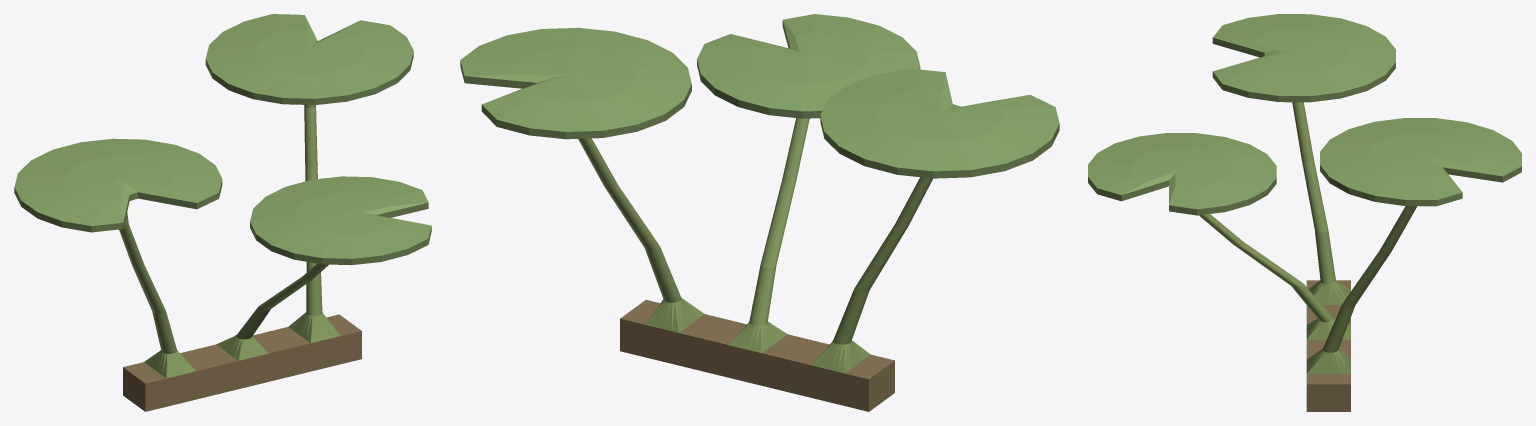
3 renders of one model, left to right at view 1: azimuth 30°, elevation 25°; view 2: azimuth 150°, elevation 25°; view 3: azimuth 270°, elevation 25°, orthographic. The views are drawn at different scales.
Visible parts, largest first — view 1: ContinuousThreePadWaterlily; view 2: ContinuousThreePadWaterlily; view 3: ContinuousThreePadWaterlily.
Part boxes in pixels (x1,y1,x2,y2): ContinuousThreePadWaterlily: [14, 14, 431, 411]; ContinuousThreePadWaterlily: [460, 14, 1059, 411]; ContinuousThreePadWaterlily: [1088, 14, 1521, 411].
Bounding box in the file's own units: 1.44 × 0.843 × 1.27.
